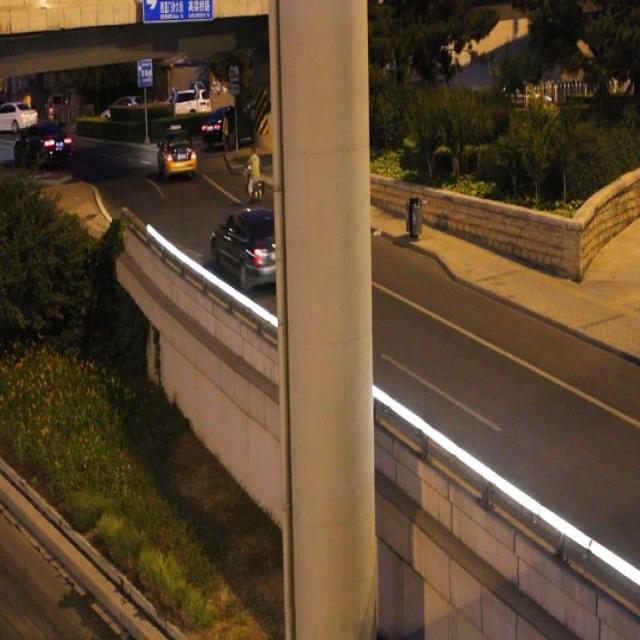car: (210, 206, 296, 291)
